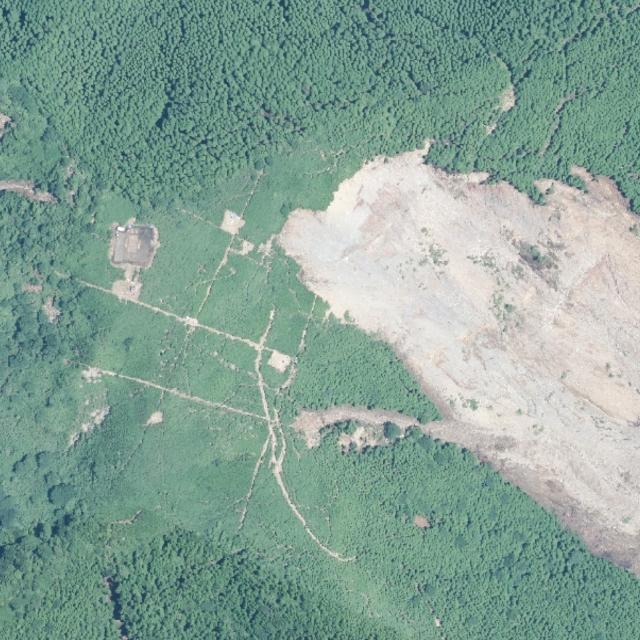landslide: (279, 142, 640, 576), (293, 406, 420, 453)
